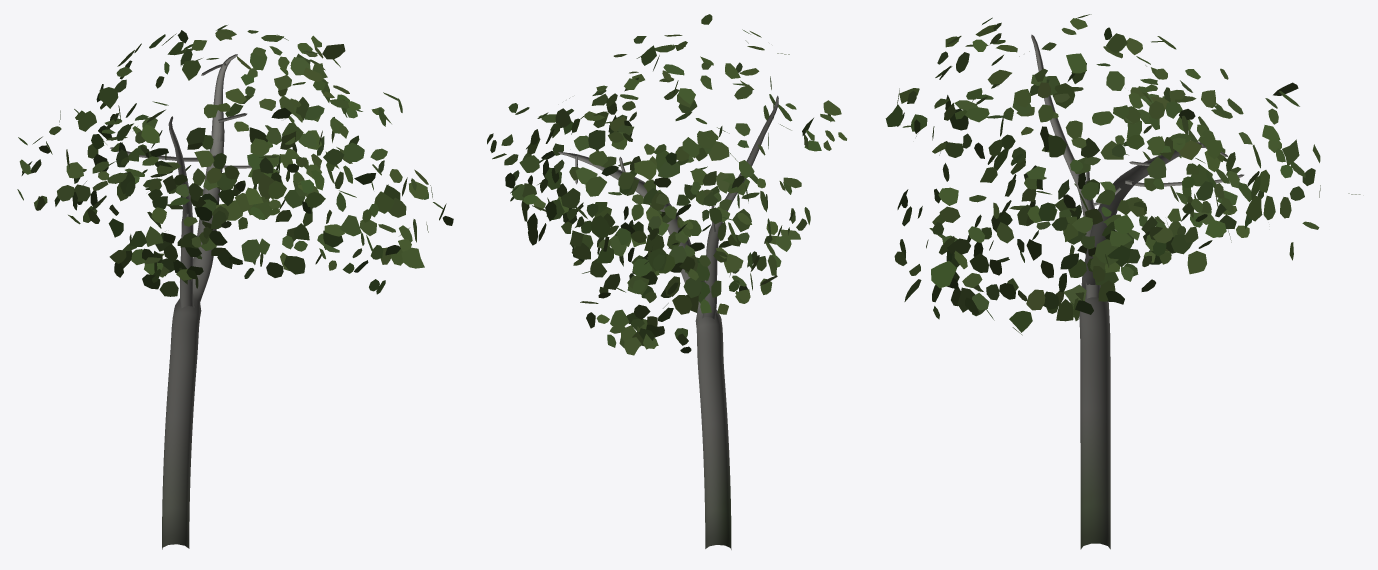
File: SM_TreeFar_beech_0.glb
3 views of the same model, side by side, from view 1: azimuth 30°, elevation 25°; view 2: azimuth 150°, elevation 25°; view 3: azimuth 270°, elevation 25° (orthographic). The views are drawn at different scales.
Parts seen in each view (by area): view 1: SM_TreeFar_beech_0; view 2: SM_TreeFar_beech_0; view 3: SM_TreeFar_beech_0.
Part boxes in pixels (x1=…): SM_TreeFar_beech_0: x1=17, y1=25, x2=453, y2=549; SM_TreeFar_beech_0: x1=487, y1=14, x2=846, y2=549; SM_TreeFar_beech_0: x1=885, y1=14, x2=1360, y2=549.
Size of the model in its own units: 10.95 by 17.09 by 13.44.
